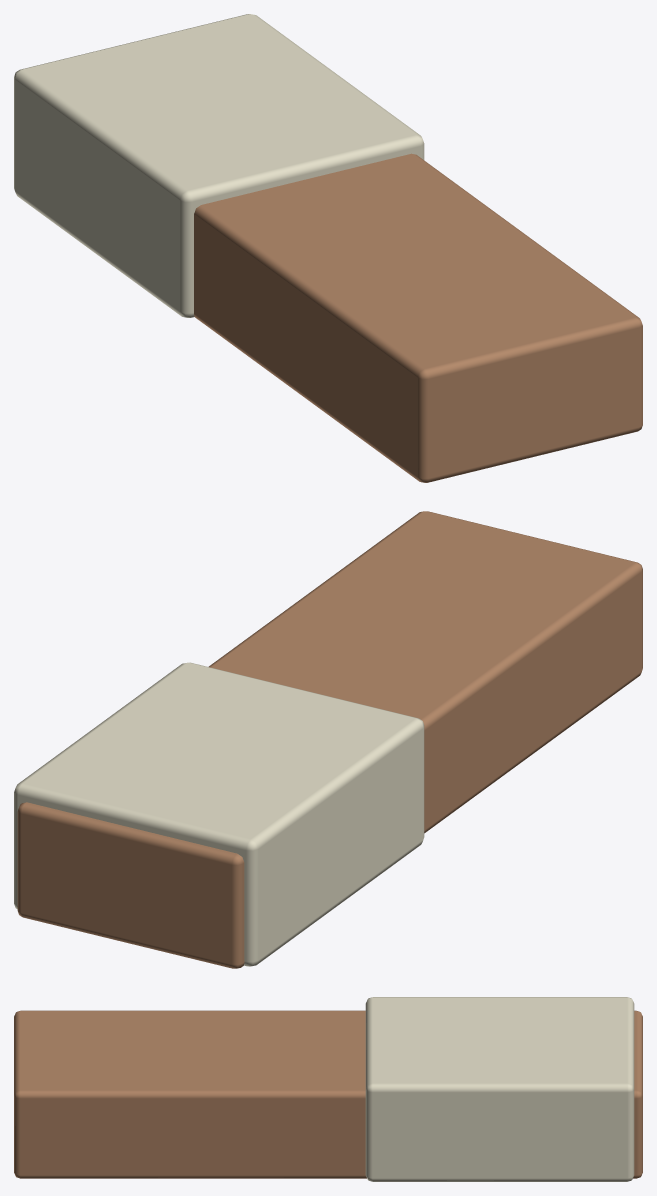
The model's file is survival-food-and-preservation-energy-bar-86c14700__21740.glb.
3 views of the same model, one above another, from view 1: azimuth 30°, elevation 25°; view 2: azimuth 150°, elevation 25°; view 3: azimuth 270°, elevation 25° (orthographic). The views are drawn at different scales.
Parts seen in each view (by area): view 1: energy-bar; view 2: energy-bar; view 3: energy-bar.
Boxes of the visible parts, bbox=[...] form: energy-bar: bbox=[14, 14, 642, 482]; energy-bar: bbox=[14, 511, 642, 968]; energy-bar: bbox=[14, 997, 642, 1181].
Bounding box in the file's own units: 0.038 × 0.019 × 0.11.
